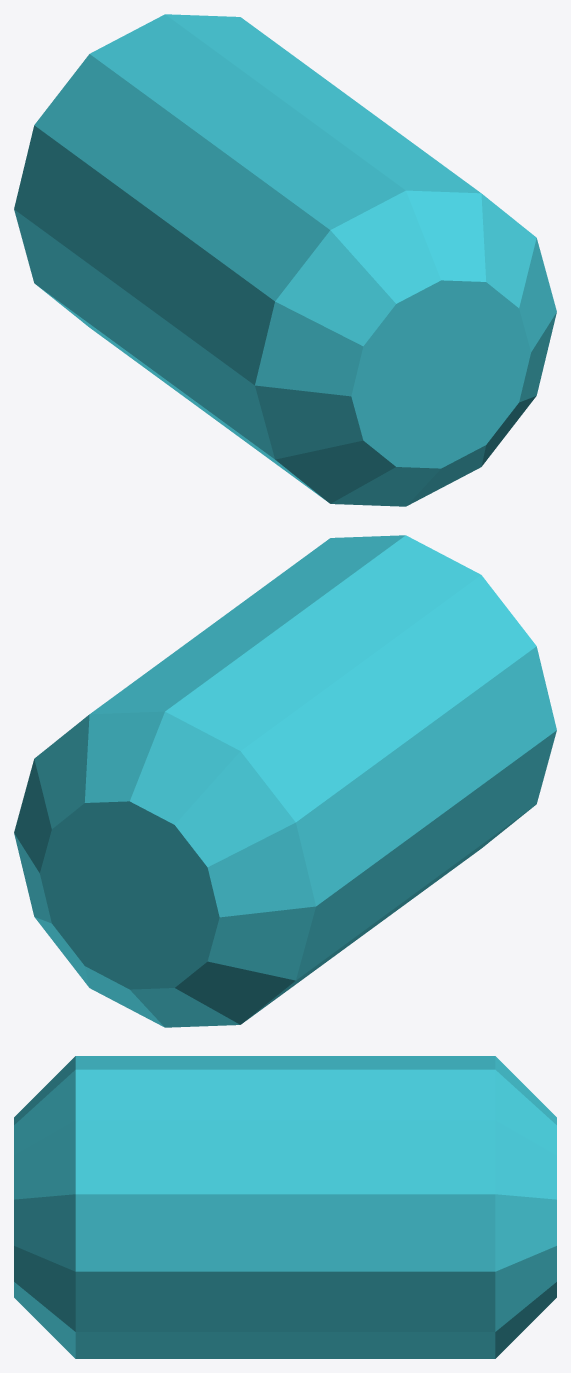
Rendered from tank_coolant_a.glb.
3 renders of one model, top to bottom at view 1: azimuth 30°, elevation 25°; view 2: azimuth 150°, elevation 25°; view 3: azimuth 270°, elevation 25°, orthographic. The views are drawn at different scales.
Parts seen in each view (by area): view 1: tank_coolant_a-convcol; view 2: tank_coolant_a-convcol; view 3: tank_coolant_a-convcol.
Part boxes in pixels (x1=…): tank_coolant_a-convcol: x1=14, y1=14, x2=556, y2=506; tank_coolant_a-convcol: x1=14, y1=535, x2=556, y2=1027; tank_coolant_a-convcol: x1=14, y1=1056, x2=556, y2=1358.
Size of the model in its own units: 0.84 by 0.84 by 1.5.
